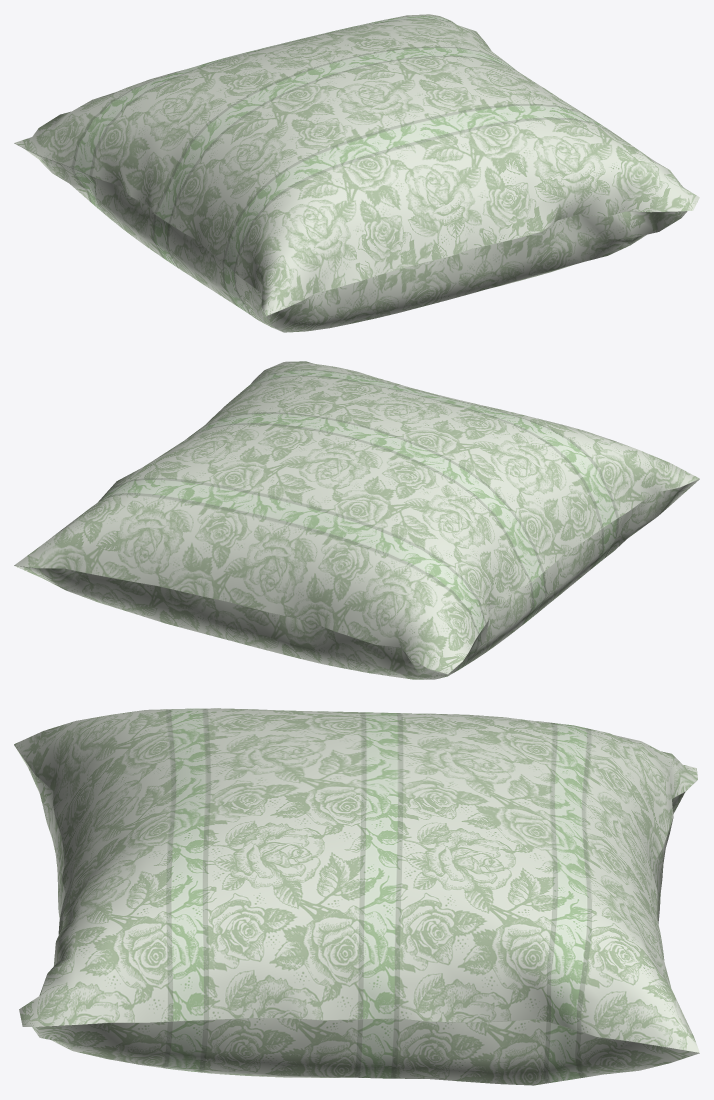
File: Pillow02.FBX
3 views of the same model, one above another, from view 1: azimuth 30°, elevation 25°; view 2: azimuth 150°, elevation 25°; view 3: azimuth 270°, elevation 25° (orthographic). The views are drawn at different scales.
Visible parts, largest first — view 1: Pillow02; view 2: Pillow02; view 3: Pillow02.
Part boxes in pixels (x1,y1,x2,y2): Pillow02: [14, 14, 699, 332]; Pillow02: [14, 361, 699, 679]; Pillow02: [14, 708, 699, 1085].
Bounding box in the file's own units: 26.45 × 8.94 × 26.13.
